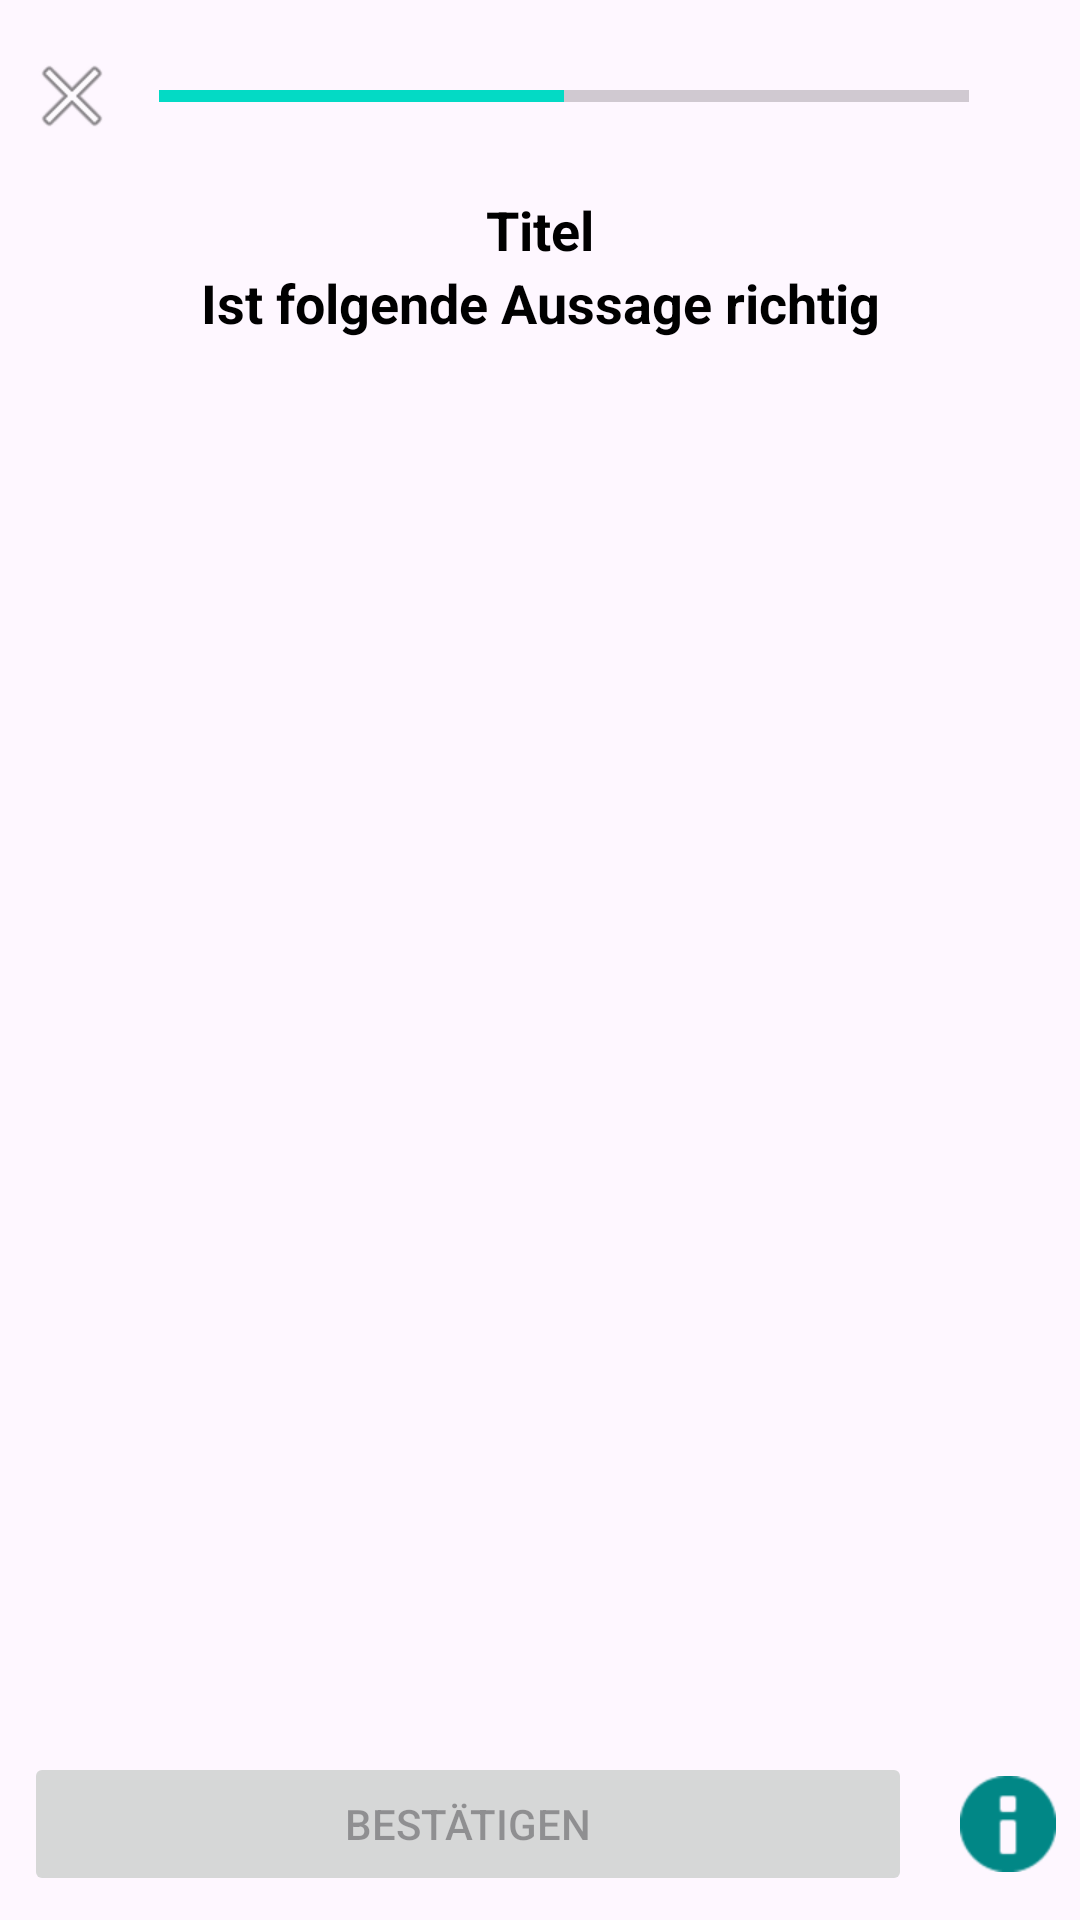

Where icons sit on this 1080w x 1920h app screen, as (left=x1, top=y1, right=x2, bottom=y2):
Schließen: (left=42, top=66, right=102, bottom=126)
Shows additional Information: (left=960, top=1776, right=1056, bottom=1872)
